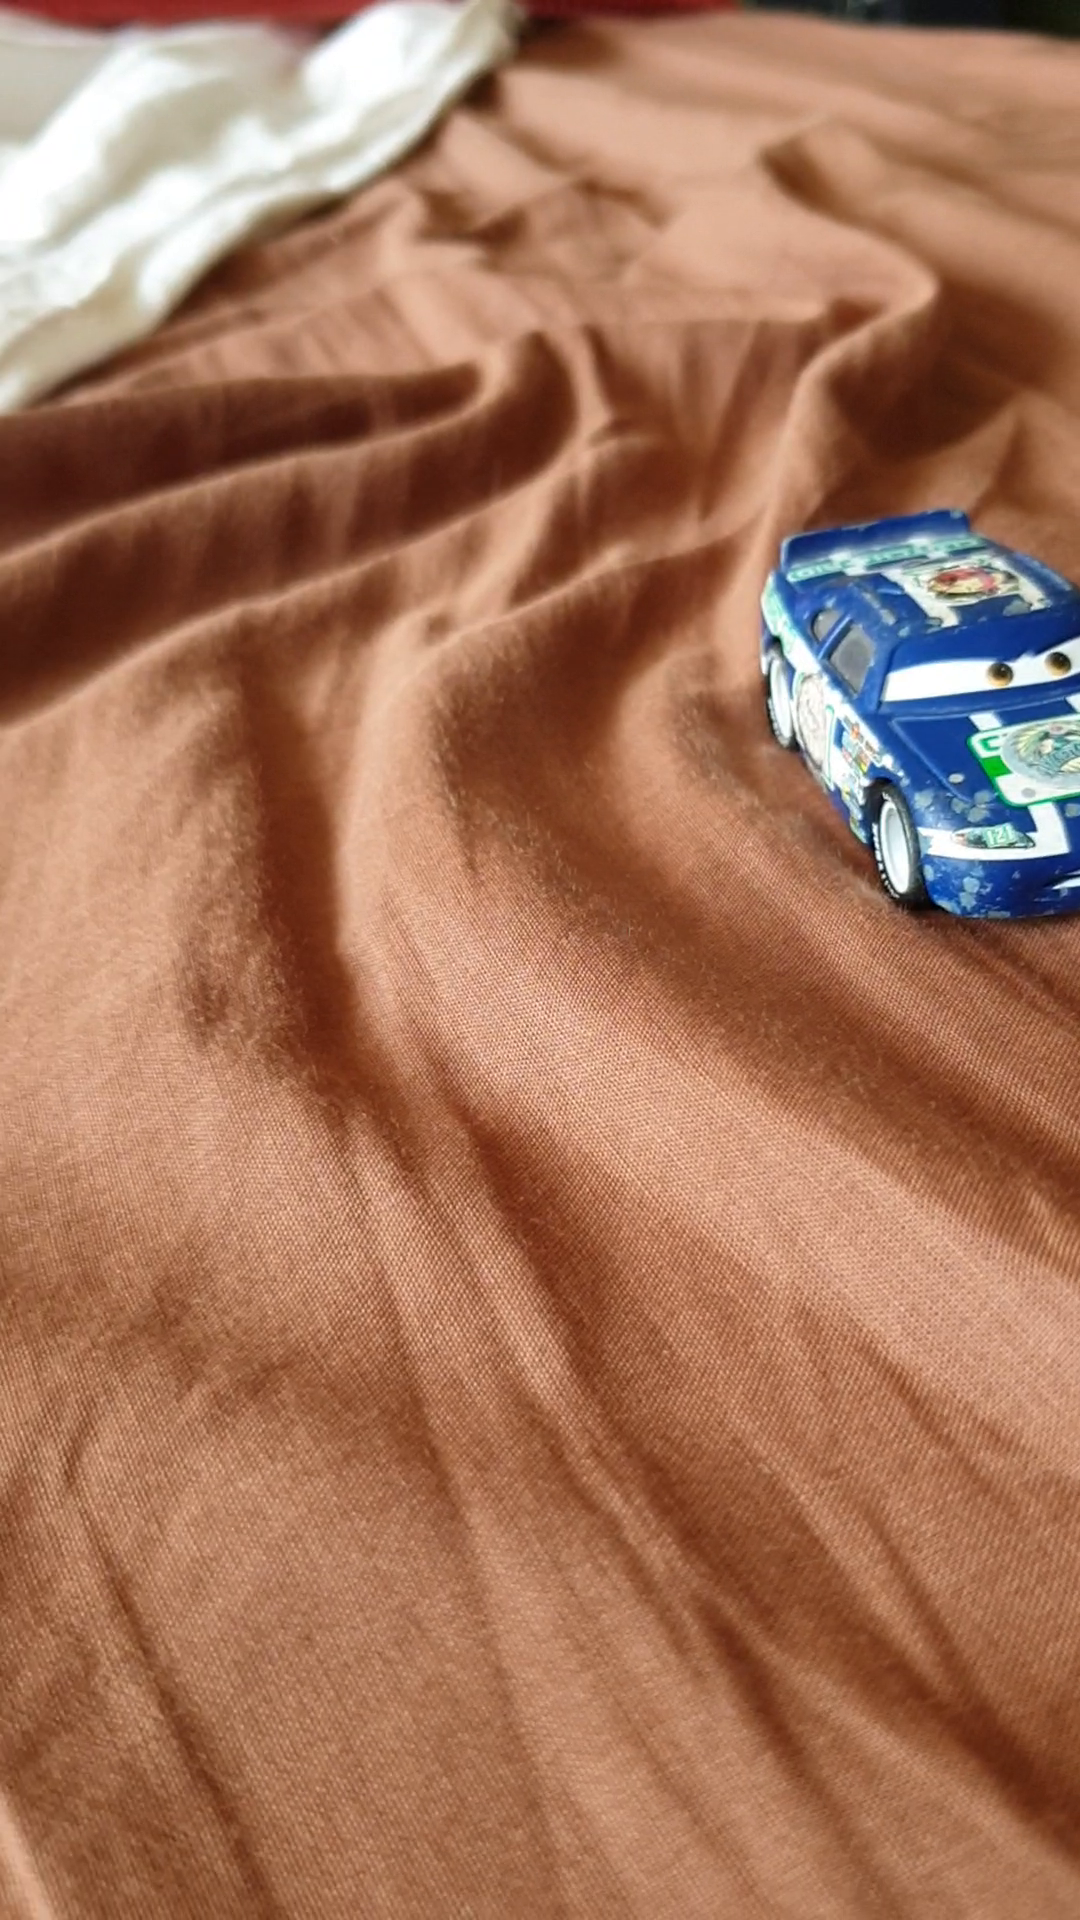cars: (764, 509, 1080, 924)
